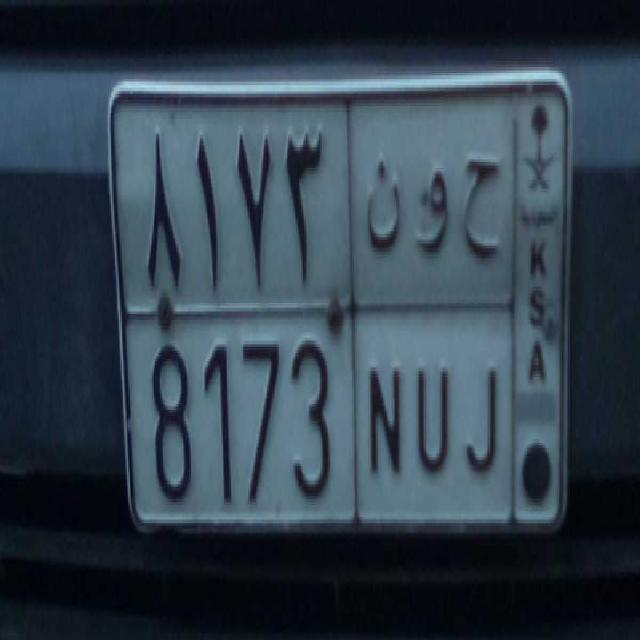license_plate: (123, 306, 513, 517)
